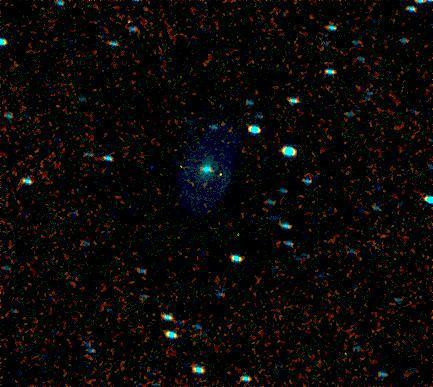star: (201, 162, 231, 192)
